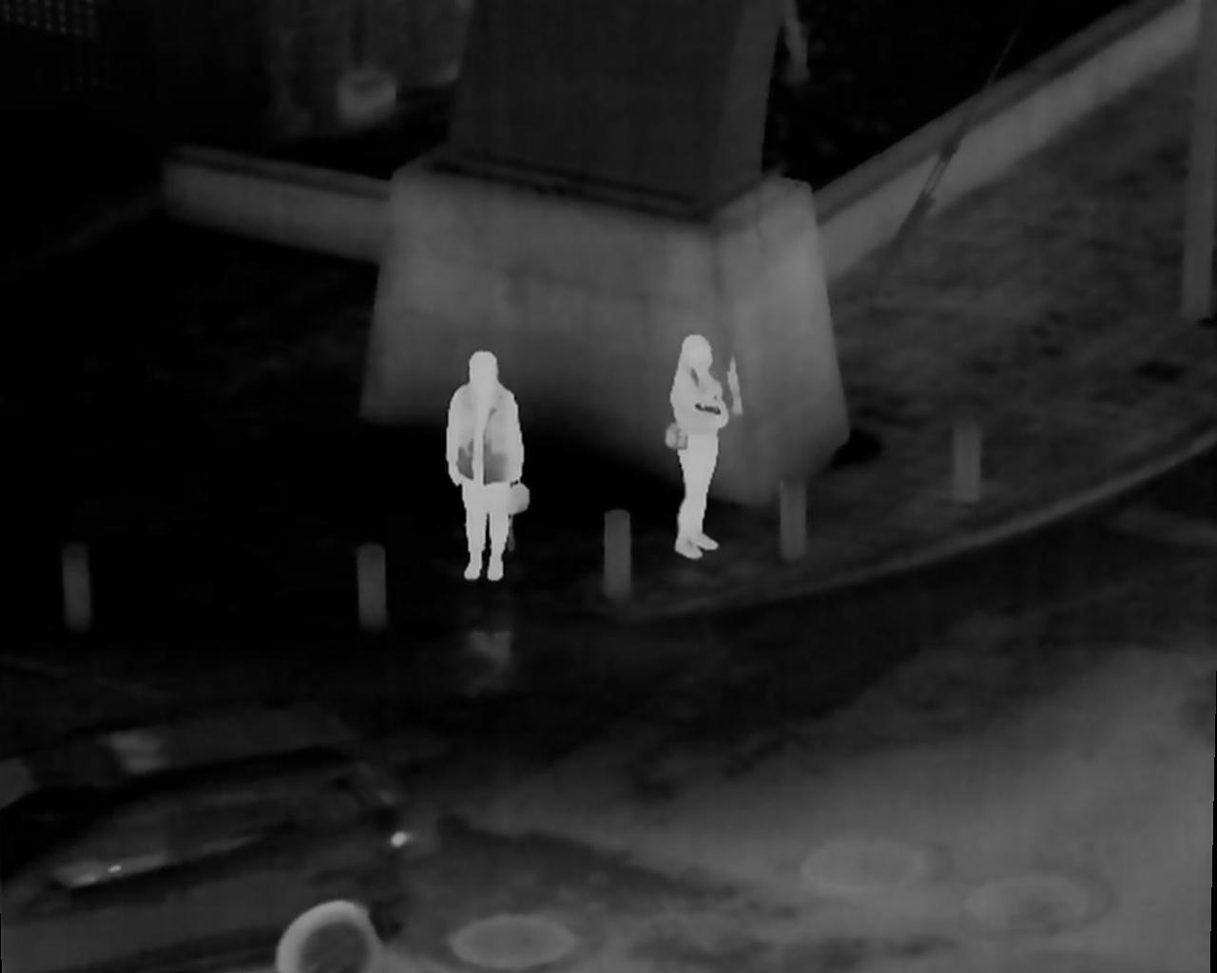person: (438, 350, 534, 581), (669, 335, 740, 557)
